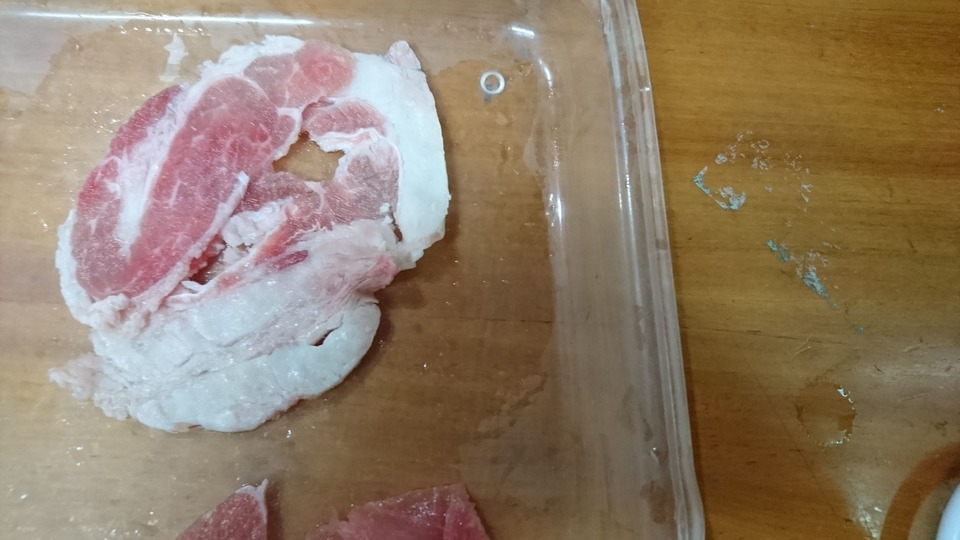restructured meat: (48, 50, 441, 438)
